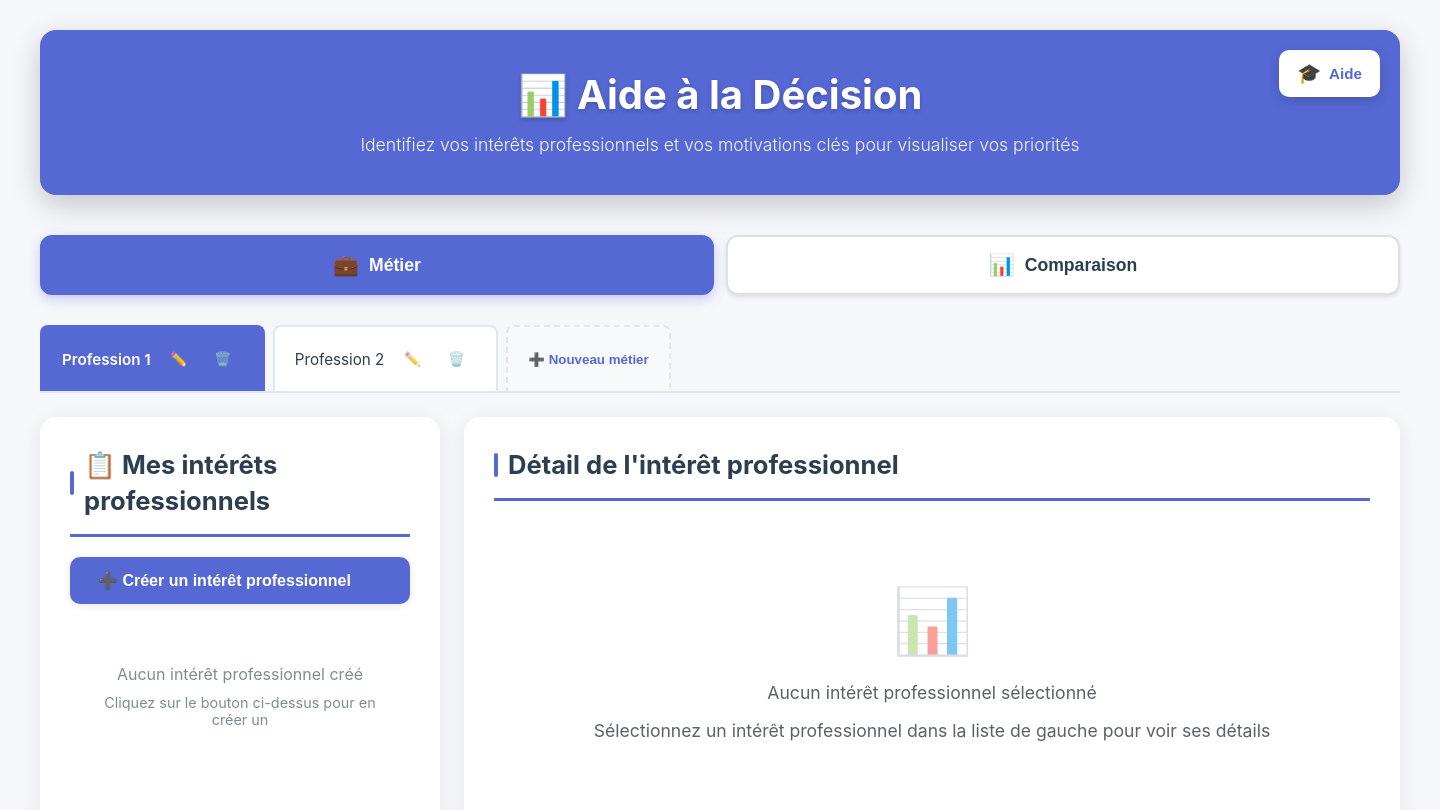
Scenario: App › should open delete profession modal
The width and height of the screenshot is (1440, 810).
Expected: the text "Profession 1" is shown, [62,350,151,368]
Click the button named "supprimer le métier": (223, 359) [203,339,243,379]
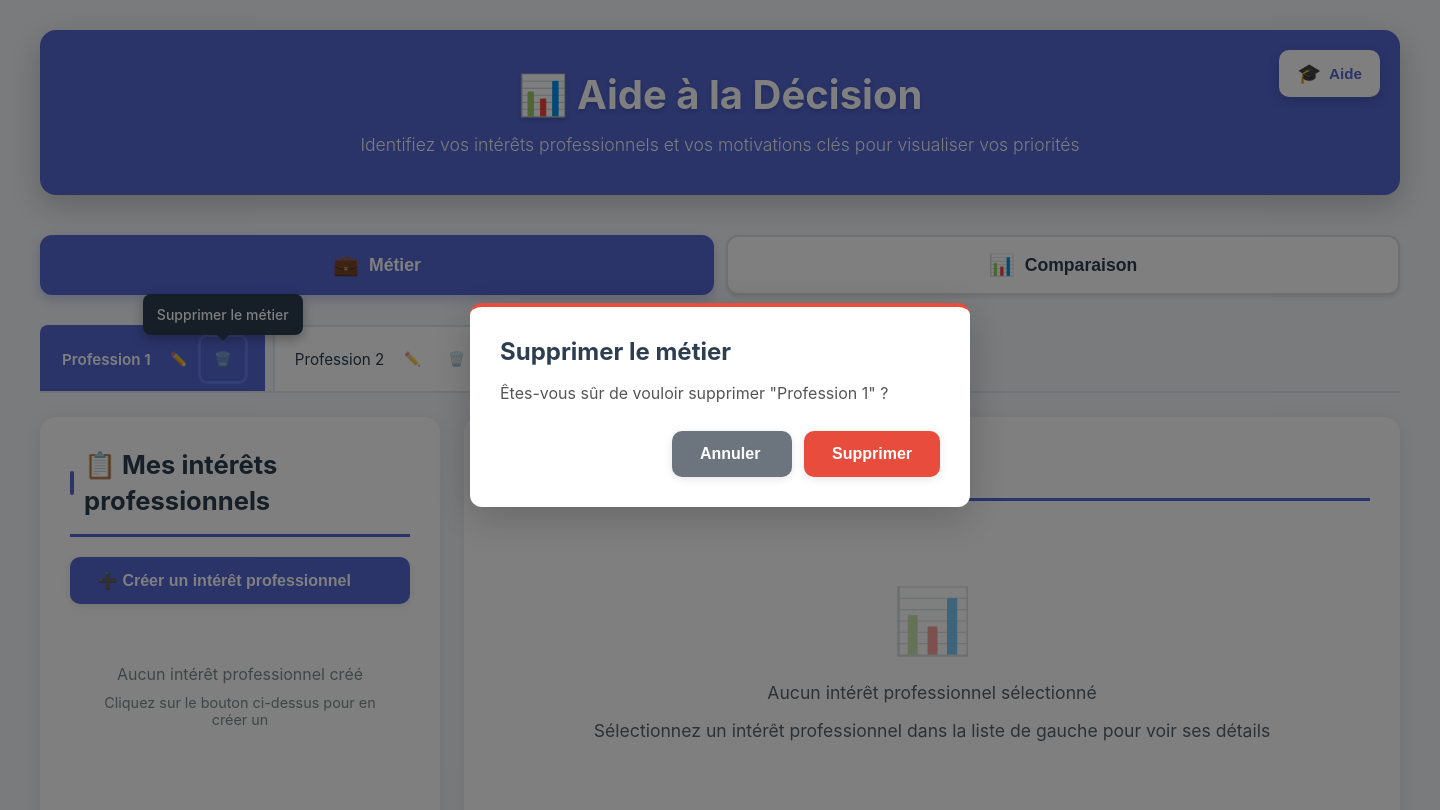
Expected: the heading "Supprimer le métier" is shown, [500,337,731,366]
